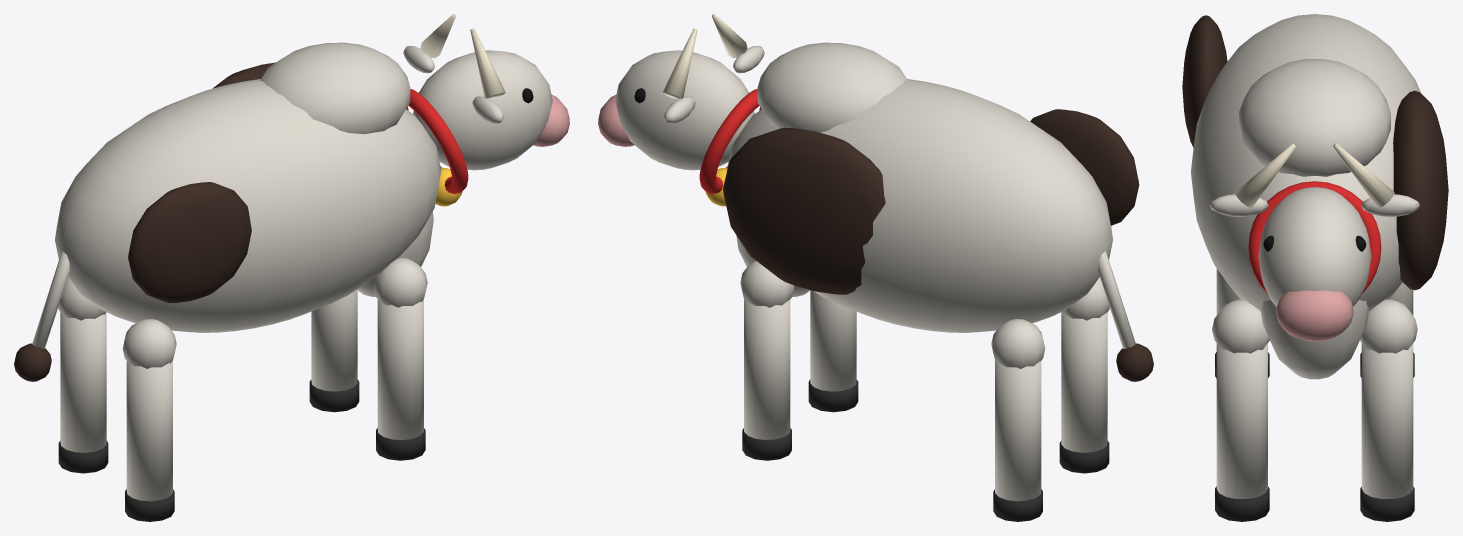
File: cow.glb
3 views of the same model, side by side, from view 1: azimuth 30°, elevation 25°; view 2: azimuth 150°, elevation 25°; view 3: azimuth 270°, elevation 25° (orthographic). The views are drawn at different scales.
Visible parts, largest first — view 1: Sphere, Sphere.002, Sphere.005, Sphere.003, Cylinder.004, Cylinder, Cylinder.002, Cylinder.006, Sphere.009, Sphere.010, Torus, Cylinder.008 (+10 smaller); view 2: Sphere, Sphere.001, Sphere.005, Sphere.003, Cylinder, Cylinder.004, Cylinder.006, Sphere.002, Cylinder.002, Sphere.013, Torus, Sphere.014 (+10 smaller); view 3: Sphere, Sphere.003, Sphere.005, Sphere.001, Cylinder.006, Cylinder.002, Sphere.004, Sphere.002, Sphere.006, Torus, Sphere.014, Sphere.010 (+8 smaller).
Part boxes in pixels (box(x1,y1,x2,y2)): Sphere: box(55, 79, 441, 332); Sphere.002: box(128, 182, 251, 303); Sphere.005: box(413, 50, 552, 170); Sphere.003: box(260, 42, 410, 134); Cylinder.004: box(60, 312, 106, 452); Cylinder: box(126, 361, 172, 501); Cylinder.002: box(377, 299, 423, 439); Cylinder.006: box(311, 289, 357, 391); Sphere.009: box(122, 319, 176, 368); Sphere.010: box(373, 257, 427, 307); Torus: box(406, 89, 468, 193); Cylinder.008: box(32, 251, 69, 348); Sphere: box(726, 79, 1112, 332); Sphere.001: box(723, 127, 885, 294); Sphere.005: box(615, 50, 754, 170); Sphere.003: box(757, 42, 907, 132); Cylinder: box(1061, 312, 1107, 452); Cylinder.004: box(995, 361, 1041, 501); Cylinder.006: box(744, 299, 790, 439); Sphere.002: box(1030, 109, 1139, 225); Cylinder.002: box(810, 290, 856, 391); Sphere.013: box(991, 319, 1045, 368); Torus: box(699, 89, 761, 193); Sphere.014: box(740, 260, 794, 307); Sphere: box(1191, 14, 1421, 311); Sphere.003: box(1239, 59, 1390, 176); Sphere.005: box(1258, 187, 1371, 306); Sphere.001: box(1393, 90, 1448, 290); Cylinder.006: box(1361, 343, 1413, 498); Cylinder.002: box(1216, 343, 1267, 498); Sphere.004: box(1260, 299, 1369, 379); Sphere.002: box(1182, 15, 1227, 147); Sphere.006: box(1275, 290, 1353, 341); Torus: box(1248, 181, 1381, 294); Sphere.014: box(1360, 299, 1417, 353); Sphere.010: box(1212, 299, 1269, 353).
Size of the model in its own units: 2.29 by 1.53 by 0.88.
